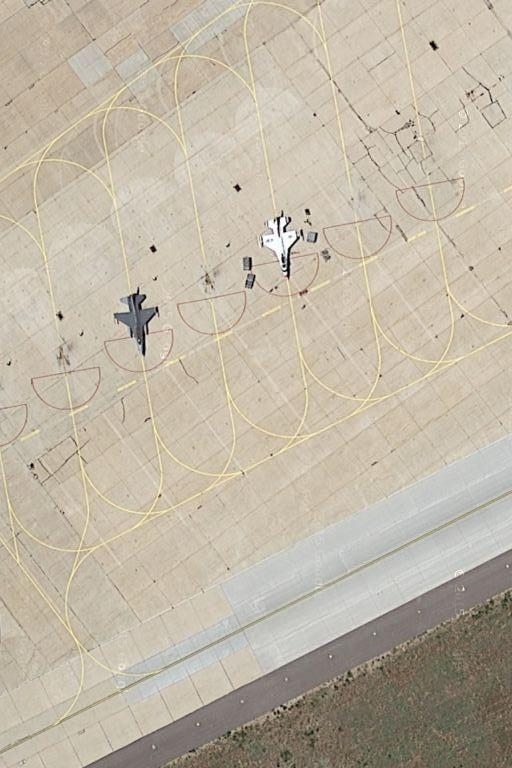F-16: (259, 211, 304, 283), (114, 286, 158, 356)
